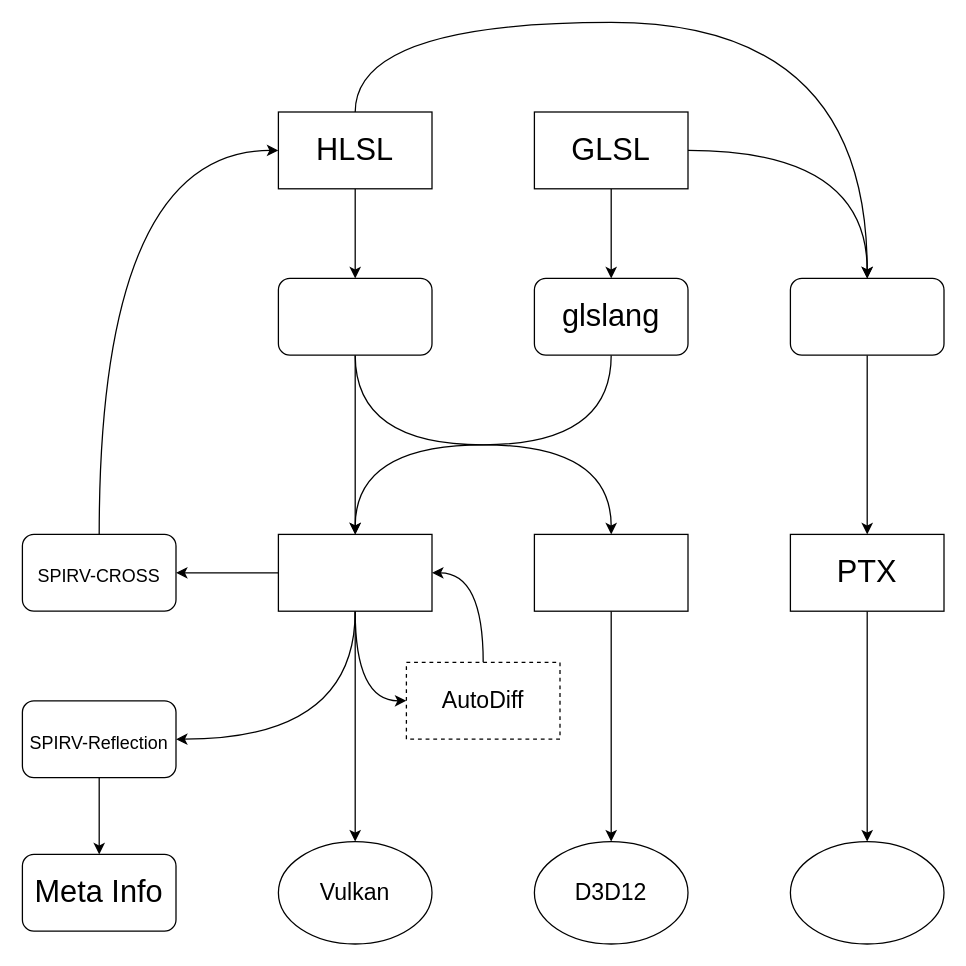
The diagram is 966 pixels wide and 966 high, and some of its shapes have lost their labels. Here are the shapes that lost their labels. From the top down, the box of each, then its label:
(277, 277, 432, 355): DXC
(789, 277, 944, 355): SLANG
(277, 533, 432, 611): SPIRV
(533, 533, 688, 611): DXIL
(789, 840, 944, 944): CUDA
